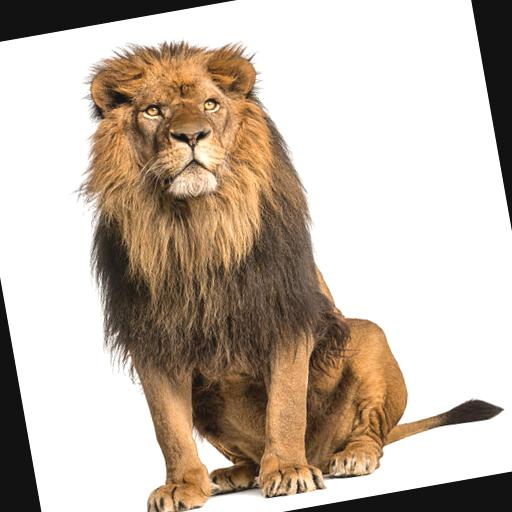lions: (33, 0, 512, 512)
